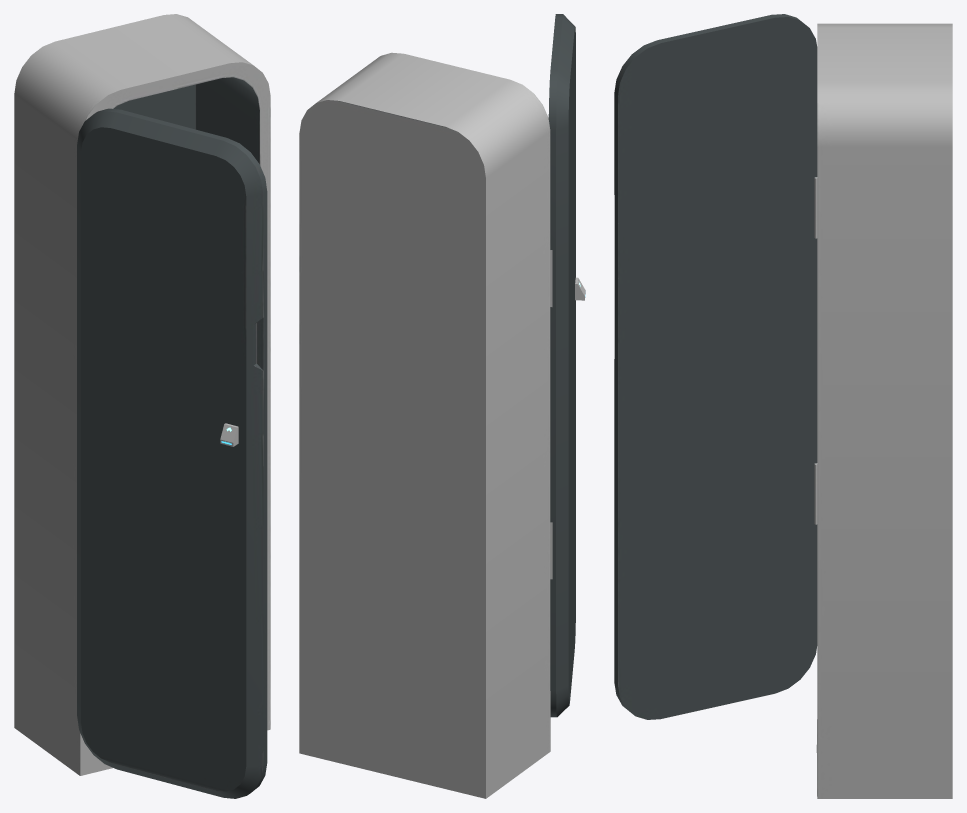
The model's file is locker.glb.
The picture shows the model from 3 angles, left to right: view 1: azimuth 30°, elevation 25°; view 2: azimuth 150°, elevation 25°; view 3: azimuth 270°, elevation 25°; orthographic projection. The views are drawn at different scales.
Visible parts, largest first — view 1: door, body; view 2: body, door; view 3: door, body.
Part boxes in pixels (x1,y1,x2,y2): door: (77, 108, 267, 798); body: (14, 14, 270, 775); body: (299, 52, 550, 798); door: (548, 14, 585, 717); door: (614, 14, 817, 719); body: (816, 23, 952, 798).
Bounding box in the file's own units: 0.635 × 2.06 × 0.9077.
1 material, 1 textured.
